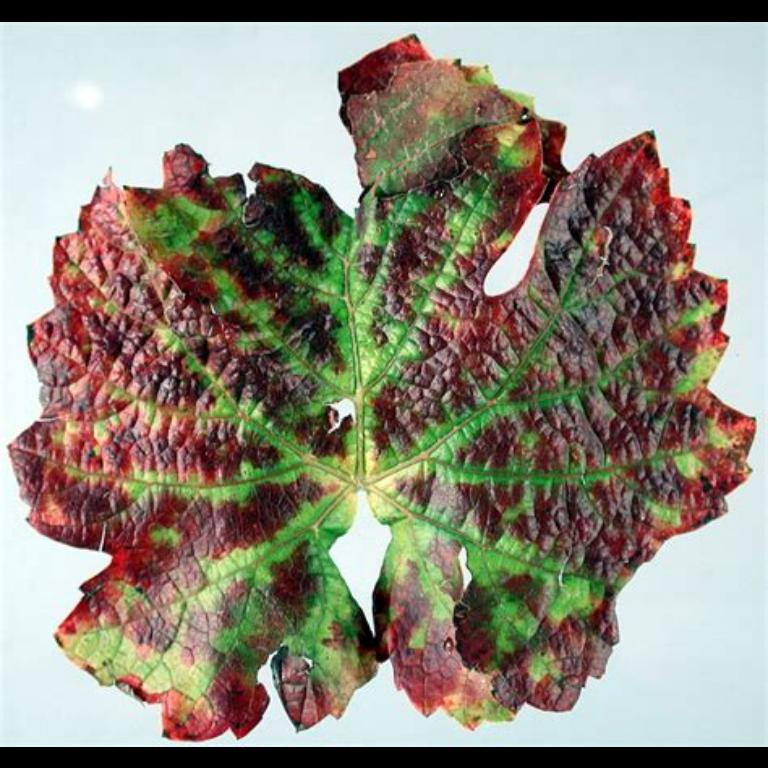blight: (78, 228, 302, 524), (334, 31, 562, 259), (440, 302, 674, 518)
